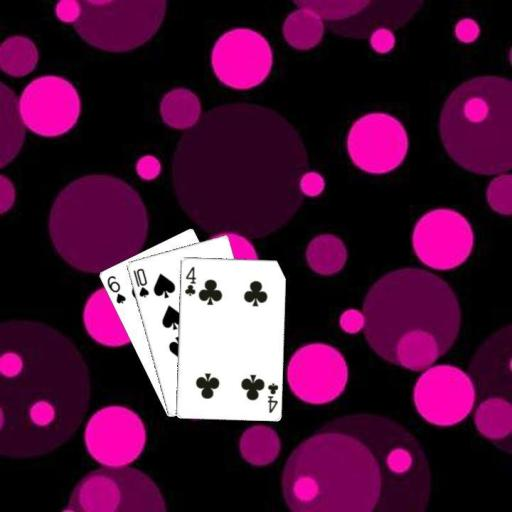10S: (129, 265, 150, 299)
4C: (181, 263, 197, 297), (265, 379, 280, 414)
6S: (104, 272, 127, 305)
